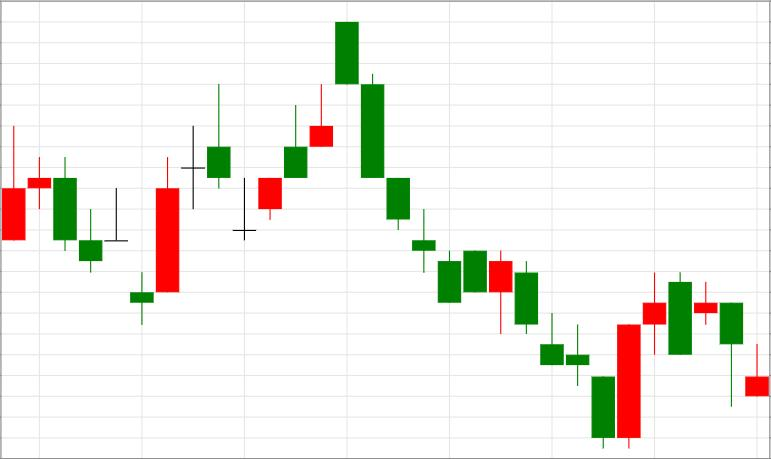bullish_engulfing_rise: (335, 22, 640, 448)
three_black_crows_fall: (231, 22, 409, 240)
